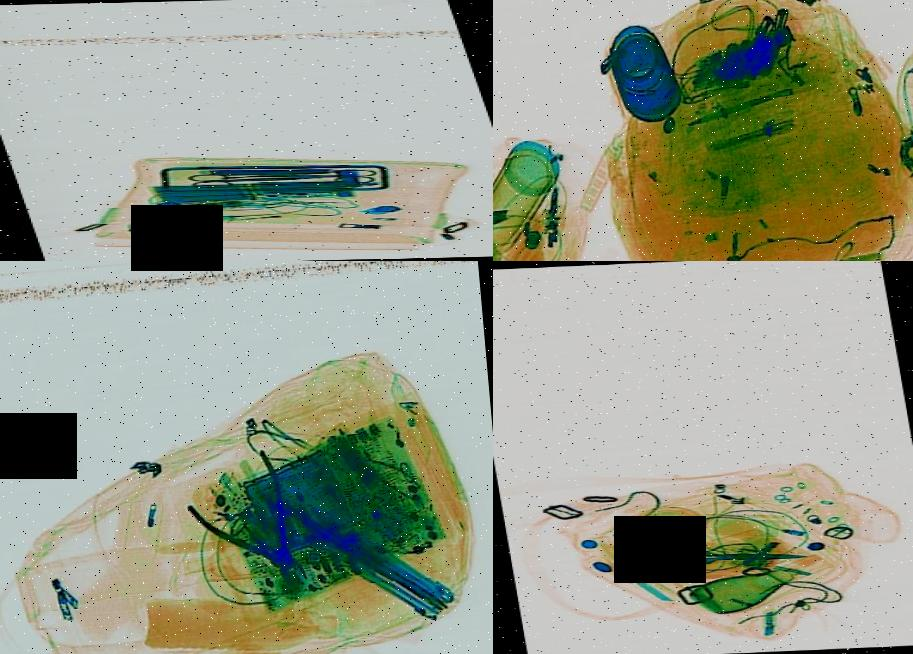Knife: (674, 544, 807, 568)
Pliers: (178, 443, 340, 618)
Scissors: (257, 166, 377, 185), (183, 171, 291, 188)
